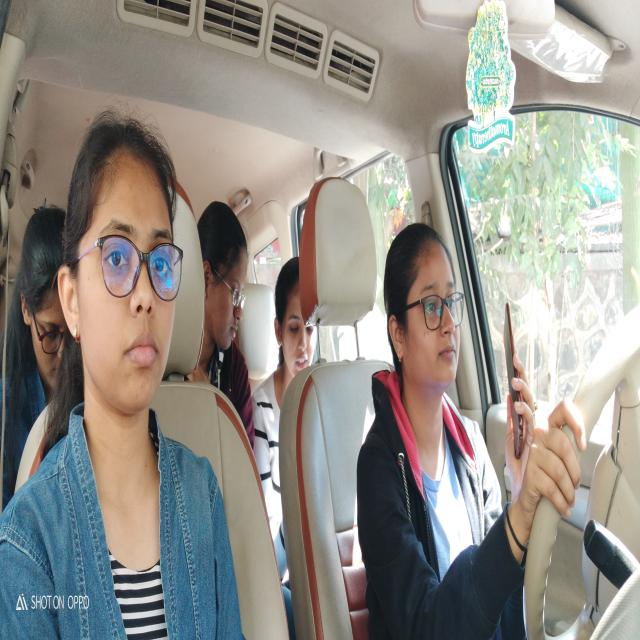mobile: (498, 291, 534, 462)
person: (56, 112, 183, 428), (384, 225, 465, 390), (14, 203, 74, 396), (194, 194, 249, 360), (276, 250, 316, 378)
